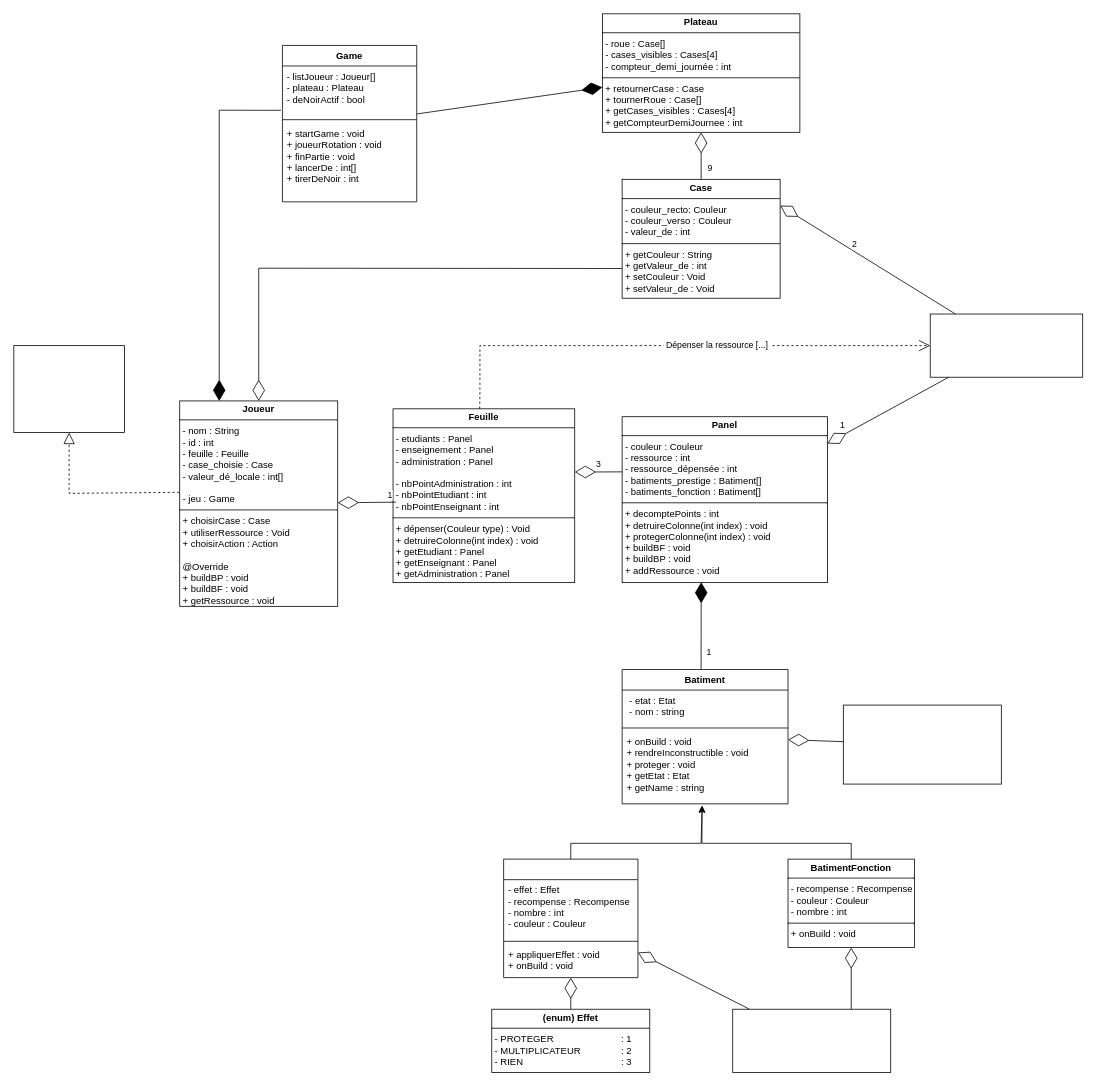
The diagram is 1097 pixels wide and 1086 high, and some of its shapes have lost their labels. Here are the shapes that lost their labels. From the top down, the box of each, then its label:
(929, 313, 1083, 377): (enum) Couleur - ROUGE : 1 - JAUNE : 2 - BLANC : 3
(13, 345, 124, 433): Action + buildBP :void + buildBF : void + getRessource : void
(843, 704, 1001, 784): (enum) Etat - CONSTRUIT : 1 - INCONSTRUCTIBLE : 2 - VIDE : 3 - PROTEGE : 4
(503, 858, 638, 978): Batiment Prestige
(732, 1008, 891, 1072): (enum) Recompense - RESSOURCE : 1 - HABITANT : 2 - RIEN : 3
